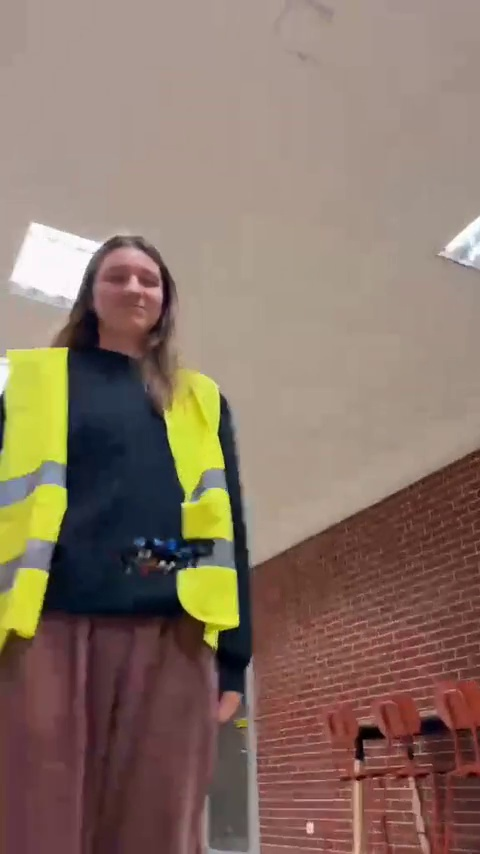drone: (119, 532, 215, 578)
vest: (5, 231, 248, 854)
